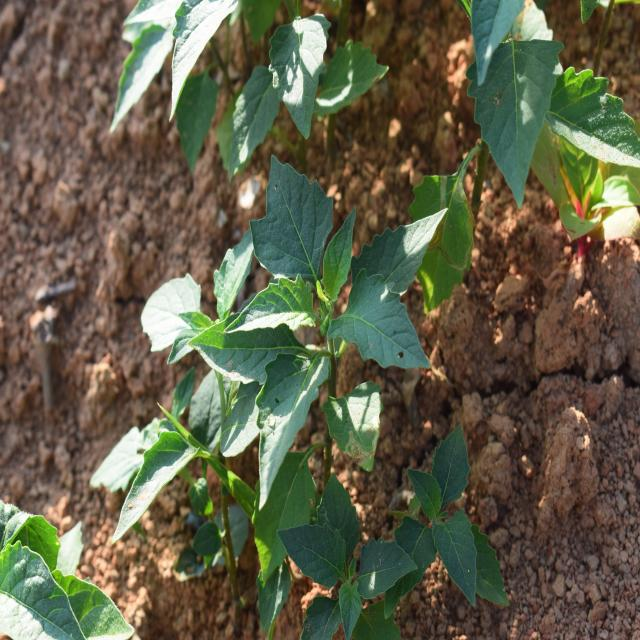Black_nightshade: (245, 172, 444, 454), (126, 235, 270, 484), (404, 431, 504, 612), (286, 492, 404, 635)
